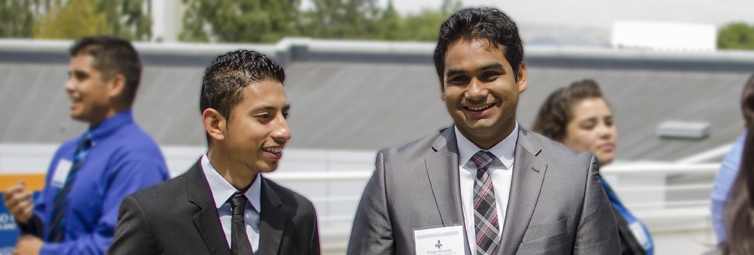Person: (347, 16, 569, 255), (50, 42, 158, 249), (187, 68, 306, 255)
